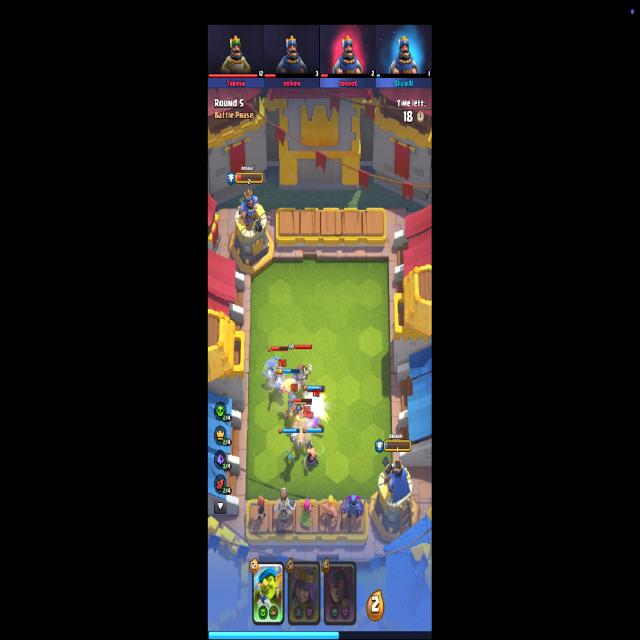archer: (300, 498, 314, 528)
bandit: (306, 396, 326, 432)
barbarian: (322, 495, 344, 522)
card_archer_queen: (287, 560, 321, 625)
card_spear_goblin: (252, 563, 284, 626)
card_witch: (323, 560, 357, 626)
dart_goblin: (282, 442, 299, 471)
executioner: (304, 434, 318, 472)
giant_skeleton: (274, 486, 296, 526), (291, 363, 313, 394)
knight: (284, 388, 302, 422)
mega_knight: (292, 413, 311, 446)
pekka: (342, 495, 367, 519)
prince: (267, 357, 289, 399)
valkyrie: (251, 496, 268, 521)
